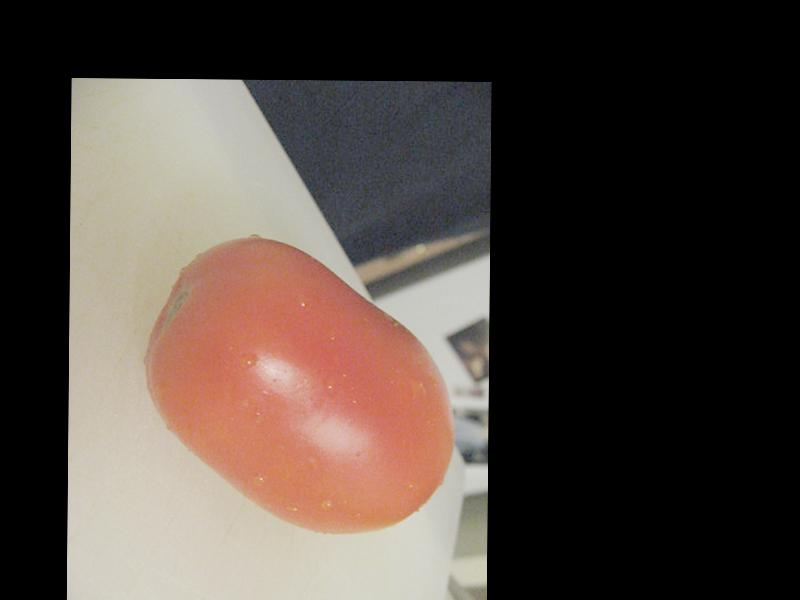Tomato: (145, 235, 457, 534)
